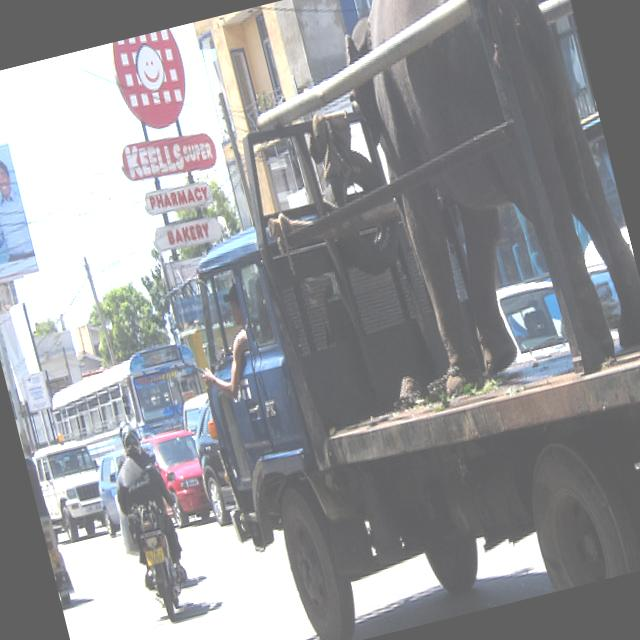Vehicle: (105, 0, 640, 640), (42, 336, 212, 462), (29, 423, 116, 548), (29, 426, 117, 546), (139, 424, 216, 532), (182, 400, 242, 530), (576, 221, 640, 342), (492, 274, 571, 368), (89, 446, 144, 538), (176, 390, 218, 432)
